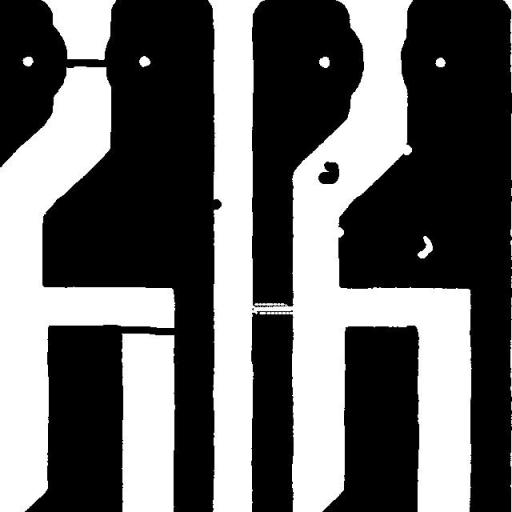copper: (310, 154, 346, 191)
mousebite: (326, 219, 351, 245), (394, 137, 419, 162)
open: (237, 295, 305, 322)
pin-hole: (410, 228, 440, 266)
short: (106, 318, 187, 342), (51, 51, 117, 75)
spur: (199, 191, 229, 218)
